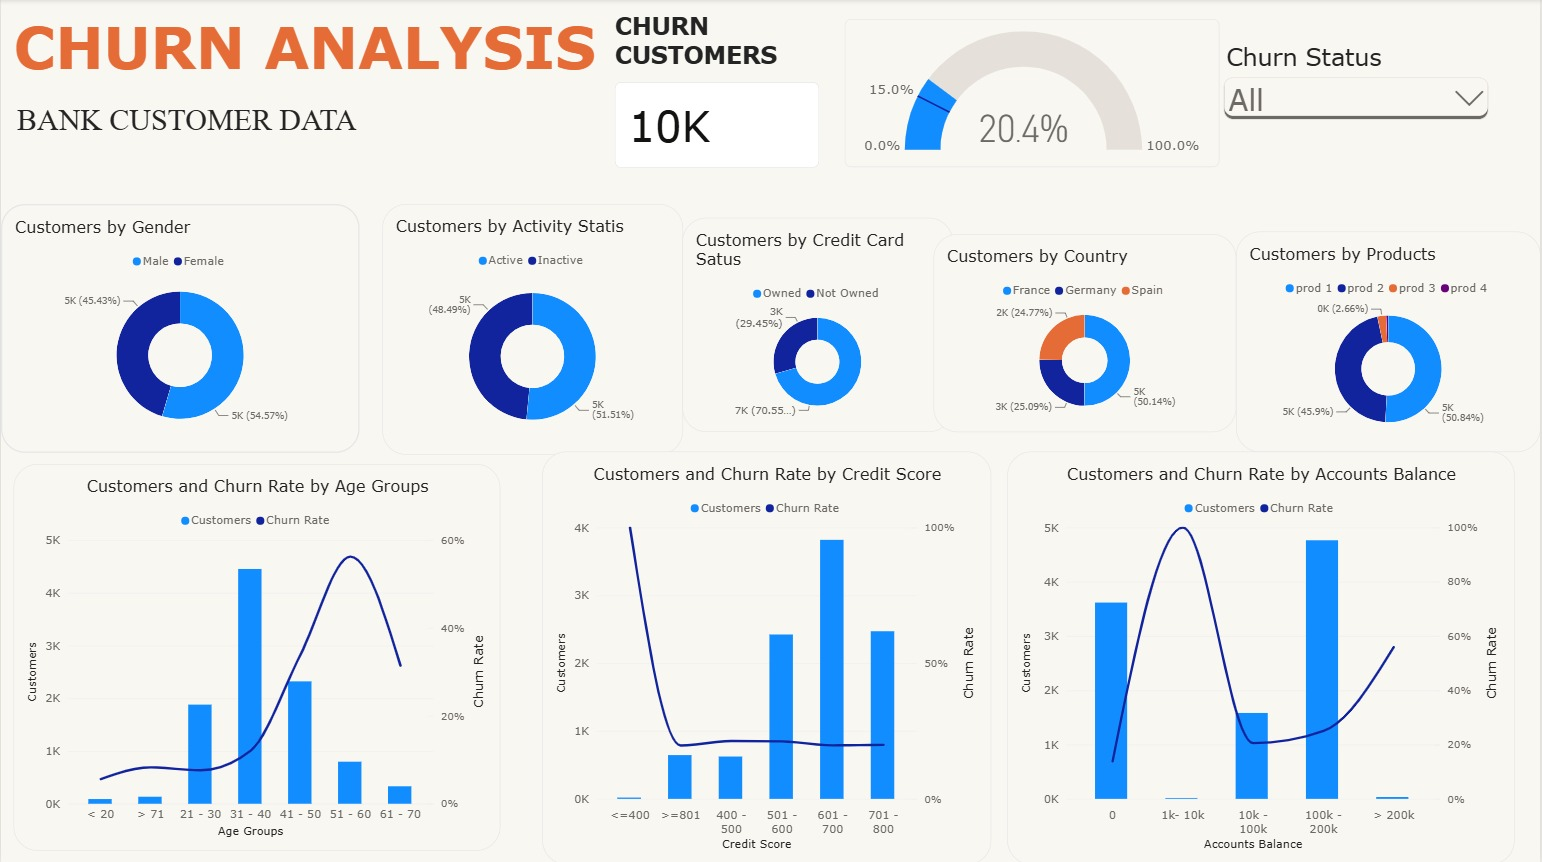

What the dashboard file says about the page in this screenshot:
{"tool":"powerbi","page":{"name":"Page 1","canvas":[1920,1080],"ordinal":0},"visuals":[{"type":"donutChart","fields":{"Category":["Customer Data.Gender"],"Y":["Customer Data.Customers"]},"box":[0,255,447.5,310],"z":1000},{"type":"donutChart","fields":{"Category":["Customer Data.Activity Statis","Customer Data.Gender"],"Y":["Customer Data.Customers"]},"box":[475,255,375,312.5],"z":2000},{"type":"donutChart","fields":{"Category":["Customer Data.Credit Card Satus","Customer Data.Gender"],"Y":["Customer Data.Customers"]},"box":[850,272.5,337.5,267.5],"z":3000},{"type":"donutChart","fields":{"Category":["Customer Data.Country","Customer Data.Gender"],"Y":["Customer Data.Customers"]},"box":[1162.5,292.5,377.5,247.5],"z":4000},{"type":"donutChart","fields":{"Category":["Customer Data.Products"],"Y":["Customer Data.Customers"]},"box":[1540,290,380,275],"z":5000},{"type":"lineStackedColumnComboChart","fields":{"Category":["Age Groups.Age Groups"],"Y":["Customer Data.Customers"],"Y2":["Customer Data.Churn Rate"]},"box":[15,580,607.5,482.5],"z":6000},{"type":"lineStackedColumnComboChart","fields":{"Category":["credit Score Groups.Credit Score "],"Y":["Customer Data.Customers"],"Y2":["Customer Data.Churn Rate"]},"box":[675,565,560,515],"z":7000},{"type":"lineStackedColumnComboChart","fields":{"Category":["Account Balance Groups.Accounts Balance"],"Y":["Customer Data.Customers"],"Y2":["Customer Data.Churn Rate"]},"box":[1255,565,632.5,515],"z":8000},{"type":"slicer","fields":{"Values":["Customer Data.Churn Status"]},"box":[1520,55,340,117.5],"z":9000},{"type":"gauge","fields":{"MaxValue":["Max(Customer Data.Max Churn Rate)"],"MinValue":["Min(Customer Data.Min Churn Rate)"],"TargetValue":["Max(Customer Data.Target Churn Rate)"],"Y":["Customer Data.Churn Rate"]},"box":[1052.5,25,467.5,185],"z":10000},{"type":"textbox","box":[15,15,730,227.5],"z":11000},{"type":"textbox","box":[15,130,432.5,142.5],"z":12000},{"type":"cardVisual","title":"CHURN CUSTOMERS","fields":{"Data":["Customer Data.Customers"]},"box":[765,15,255,195],"z":12001}]}

Visuals, with their boxes in screenshot pixels (x1, y1, x2, y2), scaled from the page's 1920x1080 canvas onto the 1542x862 screenshot:
donutChart - Customer Data.Gender x Customer Data.Customers: 0,204,359,451
donutChart - Customer Data.Activity Statis x Customer Data.Gender: 381,204,683,453
donutChart - Customer Data.Credit Card Satus x Customer Data.Gender: 683,217,954,431
donutChart - Customer Data.Country x Customer Data.Gender: 934,233,1237,431
donutChart - Customer Data.Products x Customer Data.Customers: 1237,231,1541,451
lineStackedColumnComboChart - Age Groups.Age Groups x Customer Data.Customers: 12,463,500,848
lineStackedColumnComboChart - credit Score Groups.Credit Score  x Customer Data.Customers: 542,451,992,861
lineStackedColumnComboChart - Account Balance Groups.Accounts Balance x Customer Data.Customers: 1008,451,1516,861
slicer - Customer Data.Churn Status: 1221,44,1494,138
gauge - Max(Customer Data.Max Churn Rate) x Min(Customer Data.Min Churn Rate): 845,20,1221,168
textbox: 12,12,598,194
textbox: 12,104,359,217
"CHURN CUSTOMERS" cardVisual: 614,12,819,168
